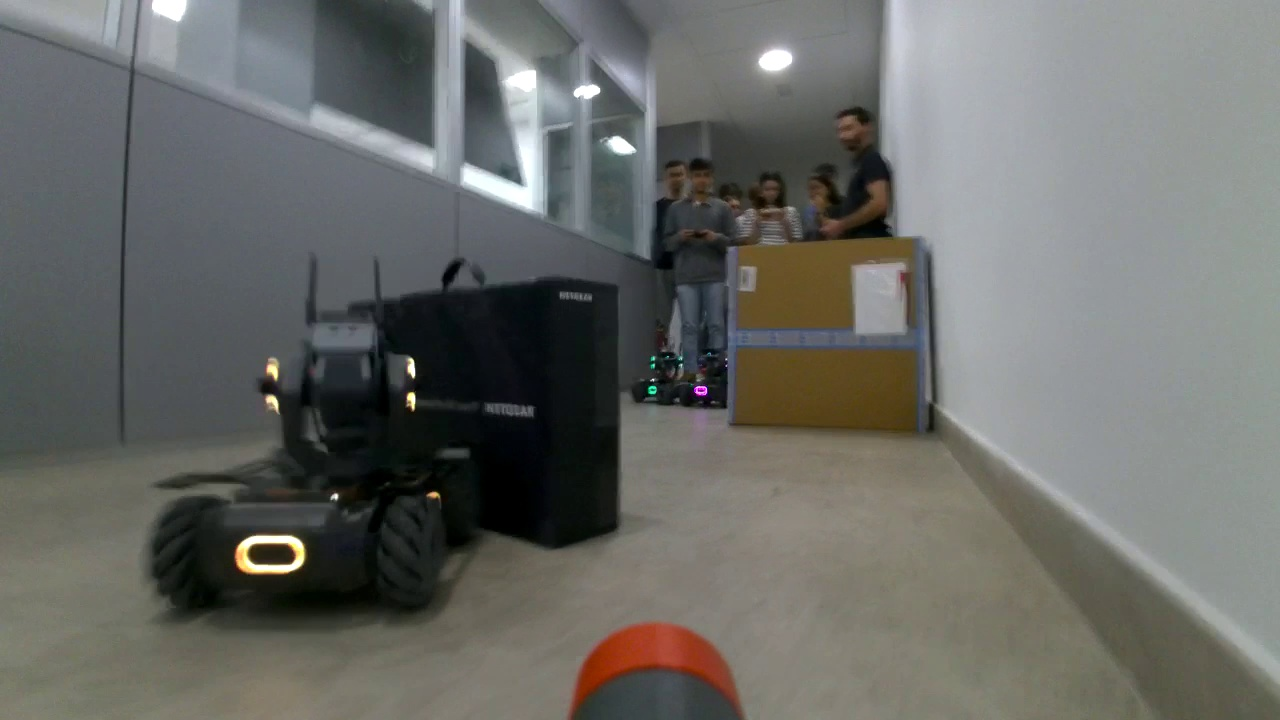robot: (143, 311, 482, 625), (629, 348, 680, 410), (682, 353, 729, 408)
